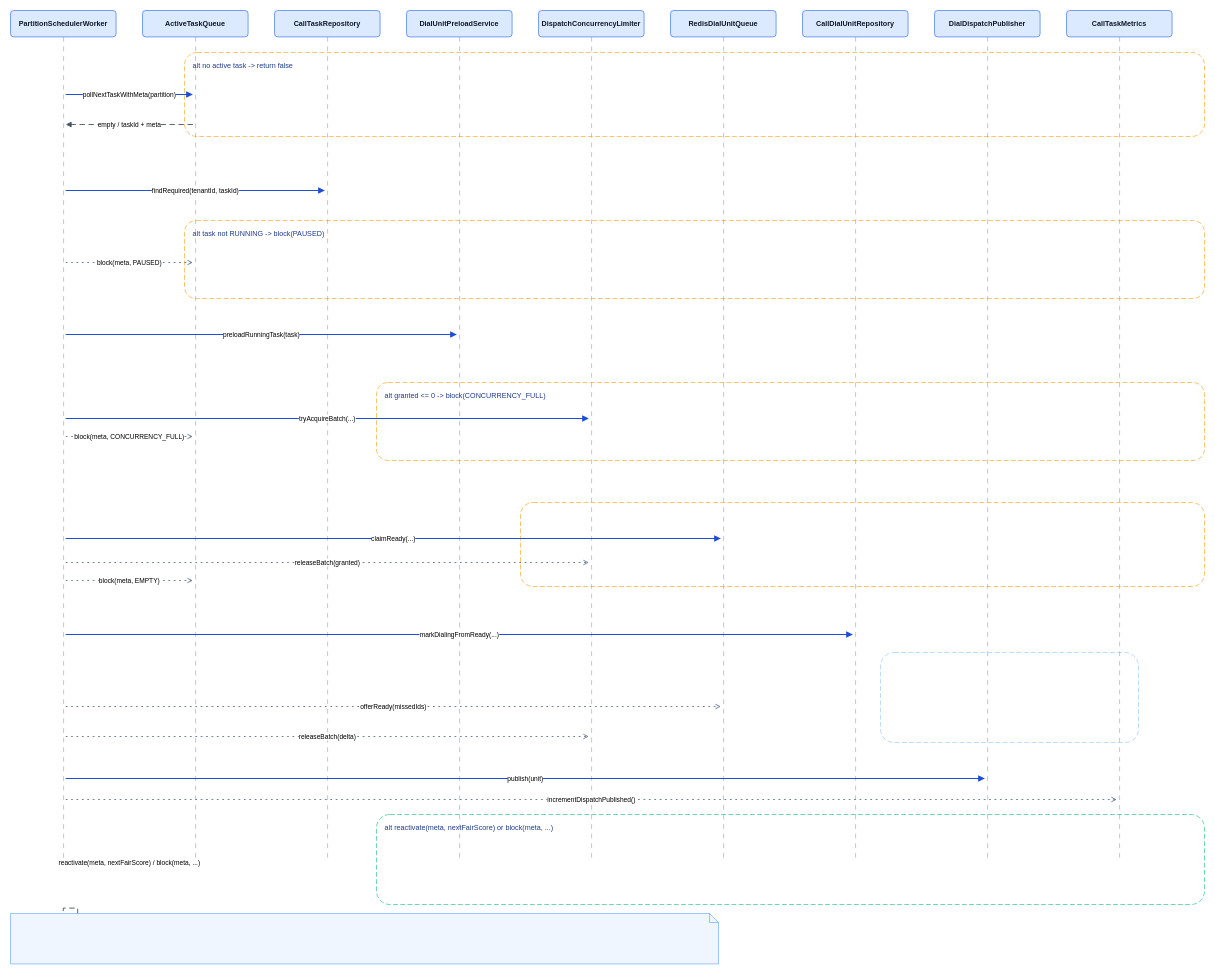
This 1215x974 diagram has some shape labels left out. The box of each missing label's shape, as (x1, y1, x2, y2) in pixels:
alt ids.isEmpty() -> releaseBatch + block(EMPTY): (520, 502, 1204, 586)
loop unit in units: (880, 652, 1138, 742)
这张图聚焦 runPartition 的内部派发链路，不再重复 dispatcher 的外层 partition 和 tick 控制逻辑。: (10, 913, 718, 964)
